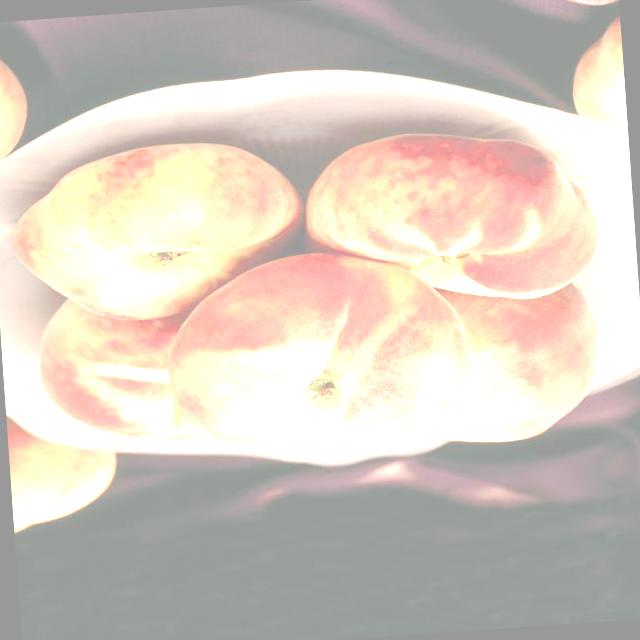Apple: (160, 243, 473, 467), (5, 134, 309, 329), (298, 120, 603, 314), (408, 277, 610, 448), (33, 288, 208, 451), (9, 414, 126, 536), (566, 16, 628, 152), (0, 42, 35, 169)
